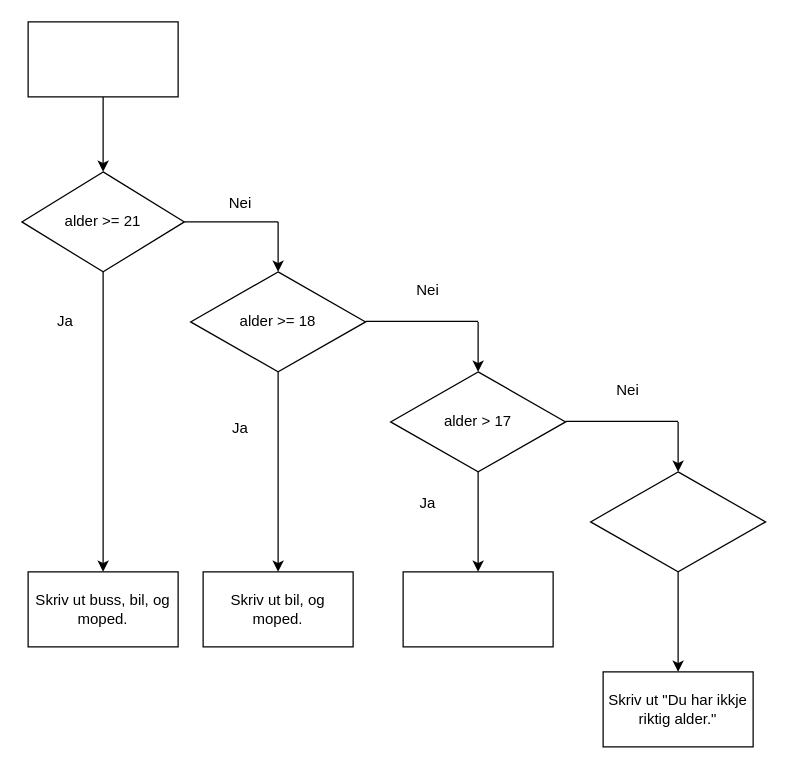
Some shapes in this 788 by 769 pixel diagram are drawn without their labels. Each missing label, with the centre of its shape:
alle andre alt.: pixel 677 521
les inn "alder": pixel 102 59
Skriv ut moped.: pixel 477 609
